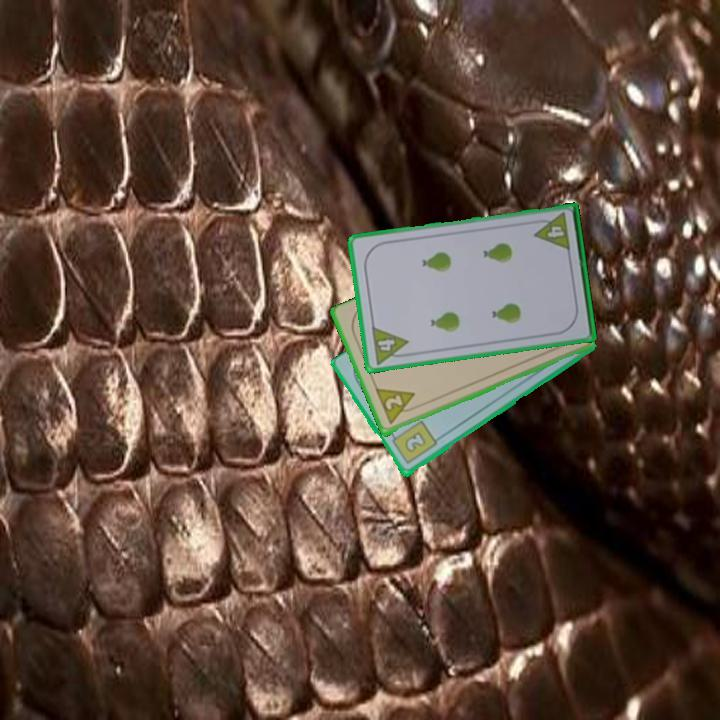2b: (387, 417, 440, 468)
2p: (372, 385, 422, 428)
4p: (368, 323, 412, 367), (530, 209, 573, 254)
